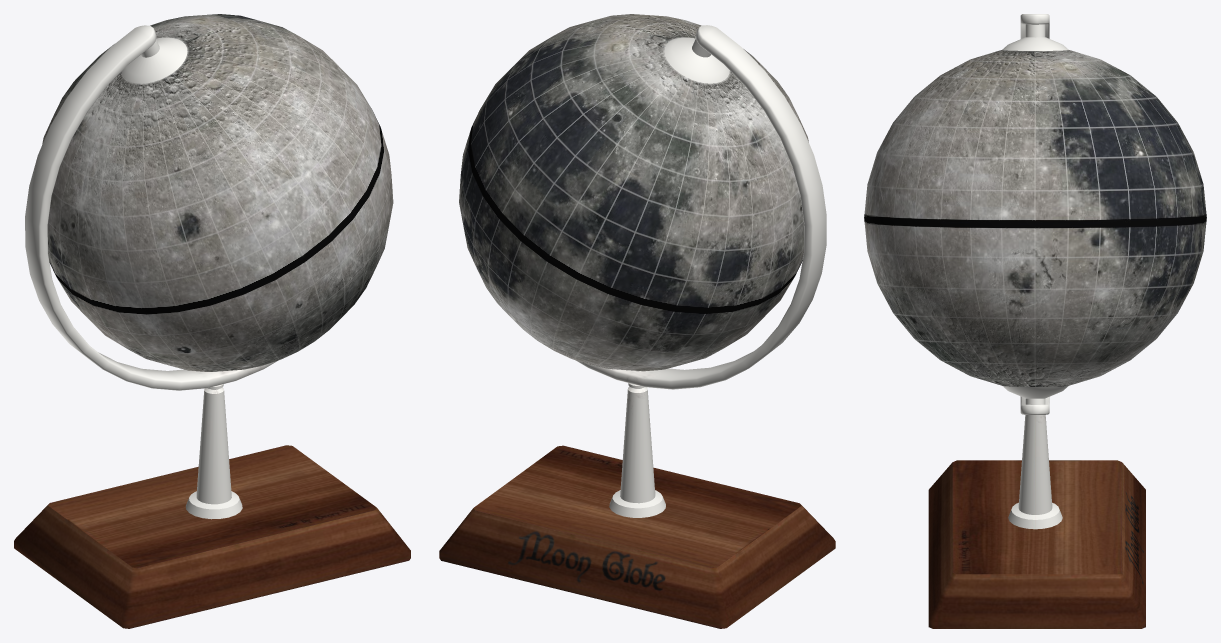
Rendered from globe.gltf.
The picture shows the model from 3 angles, left to right: view 1: azimuth 30°, elevation 25°; view 2: azimuth 150°, elevation 25°; view 3: azimuth 270°, elevation 25°; orthographic projection. The views are drawn at different scales.
Visible parts, largest first — view 1: sphere_M_sphere_0, jointedBreakable_main_M_holder_0; view 2: sphere_M_sphere_0, jointedBreakable_main_M_holder_0, words_M_holder_0; view 3: sphere_M_sphere_0, jointedBreakable_main_M_holder_0, words_M_holder_0.
Part boxes in pixels (bbox=[...]): sphere_M_sphere_0: bbox=[42, 14, 393, 371]; jointedBreakable_main_M_holder_0: bbox=[14, 25, 410, 628]; sphere_M_sphere_0: bbox=[459, 14, 808, 371]; jointedBreakable_main_M_holder_0: bbox=[439, 25, 835, 628]; words_M_holder_0: bbox=[508, 531, 665, 590]; sphere_M_sphere_0: bbox=[864, 50, 1206, 386]; jointedBreakable_main_M_holder_0: bbox=[928, 14, 1145, 628]; words_M_holder_0: bbox=[1125, 492, 1143, 584].
Bounding box in the file's own units: 28.27 × 43.39 × 26.
Materials: 2 (2 with a texture image).
